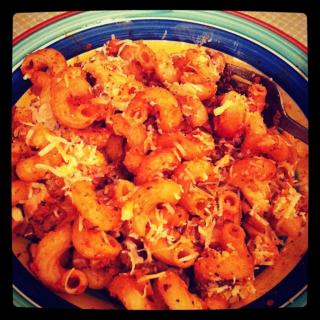Pasta: (20, 32, 320, 308)
